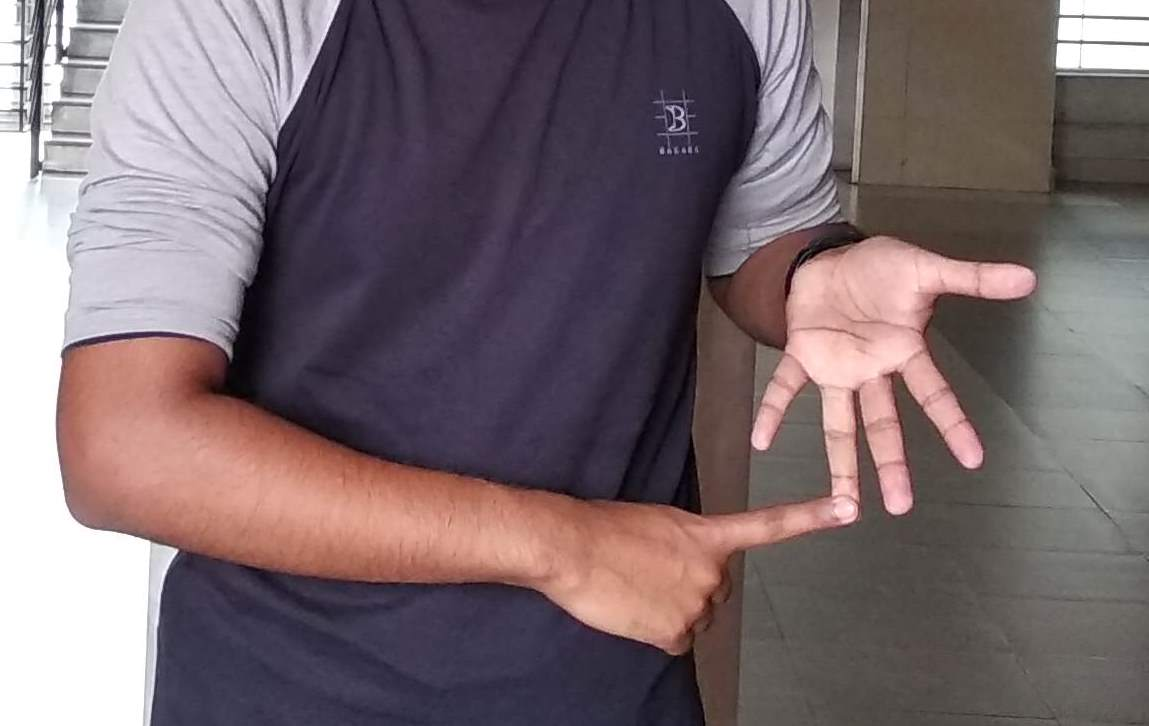e: (677, 377, 1038, 572)
